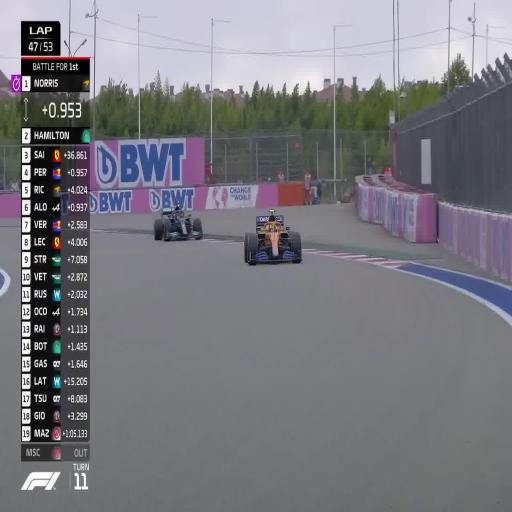f1_car: (244, 210, 302, 264), (154, 206, 202, 240)
